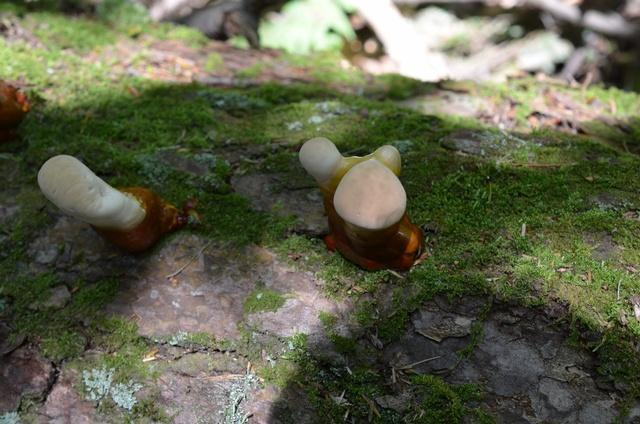poisonous_mushroom: (297, 135, 425, 272), (35, 152, 198, 253)
